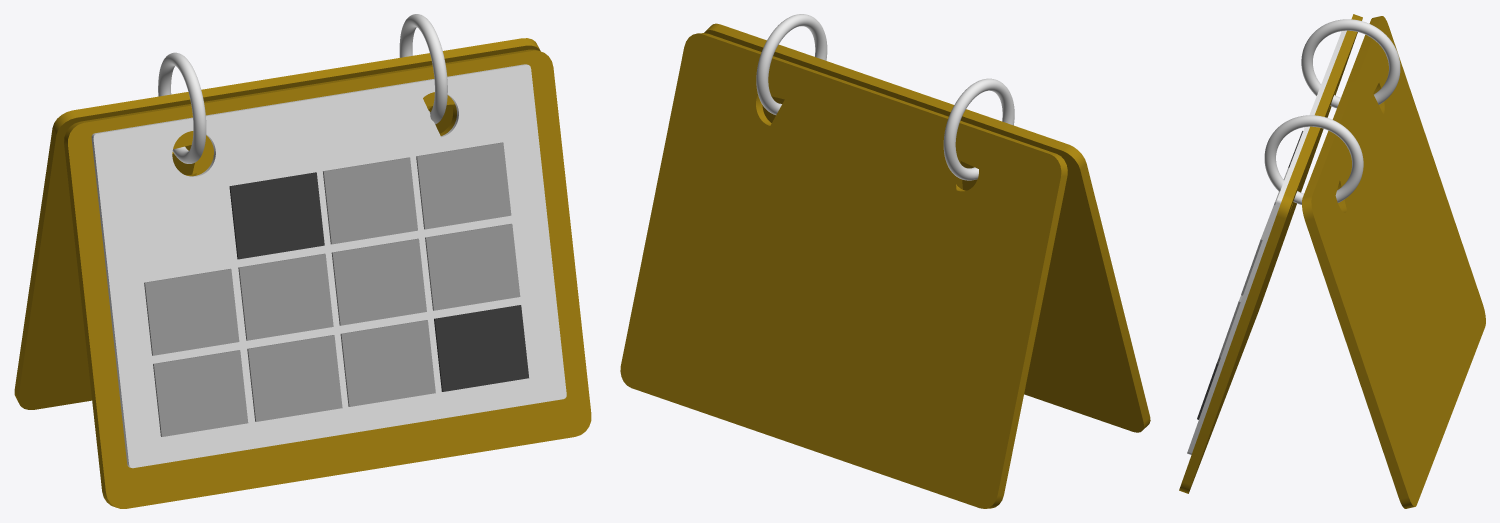
The model's file is calendar.fbx.
3 views of the same model, side by side, from view 1: azimuth 30°, elevation 25°; view 2: azimuth 150°, elevation 25°; view 3: azimuth 270°, elevation 25° (orthographic). The views are drawn at different scales.
Parts seen in each view (by area): view 1: calendar, Board, Date Block.004, Date Block.010, Date Block.009, Date Block.008, Date Block.007, Date Block.006, Date Block.005, Date Block.002, Date Block, Date Block.011 (+3 smaller); view 2: Board, Ring.001, Ring; view 3: Board, Ring, Ring.001, calendar.
Part boxes in pixels (x1,y1,x2,y2): calendar: [91, 64, 566, 468]; Board: [14, 38, 591, 508]; Date Block.004: [416, 142, 511, 229]; Date Block.010: [247, 335, 342, 421]; Date Block.009: [153, 350, 248, 436]; Date Block.008: [425, 223, 520, 310]; Date Block.007: [331, 238, 426, 325]; Date Block.006: [238, 253, 333, 340]; Date Block.005: [144, 268, 239, 355]; Date Block.002: [229, 172, 324, 259]; Date Block: [434, 305, 528, 391]; Date Block.011: [340, 320, 435, 406]; Board: [620, 23, 1150, 508]; Ring.001: [943, 78, 1014, 180]; Ring: [756, 14, 827, 114]; Board: [1179, 14, 1485, 508]; Ring: [1264, 115, 1363, 204]; Ring.001: [1301, 19, 1400, 108]; calendar: [1187, 30, 1346, 454].
Size of the model in its own units: 22.27 by 17.07 by 13.85.
